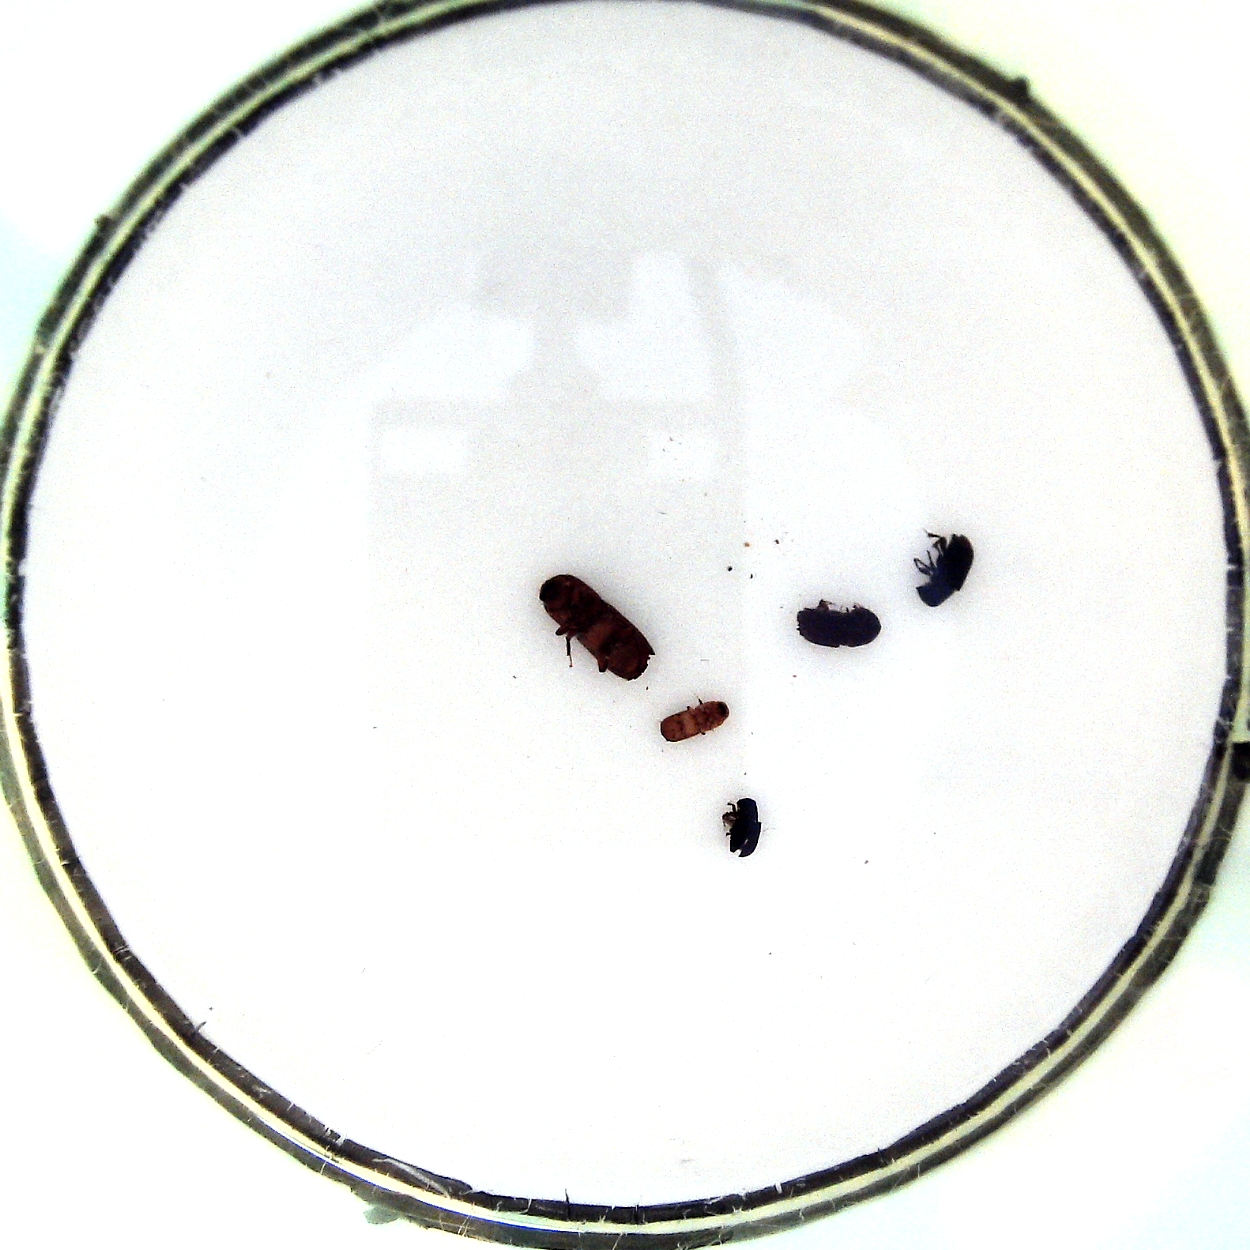Boerner: (539, 573, 655, 681)
Linnaeus: (794, 598, 883, 650)
acuminatus: (657, 691, 735, 744)
armandi: (913, 527, 973, 616)
coleoptera: (720, 794, 765, 862)
